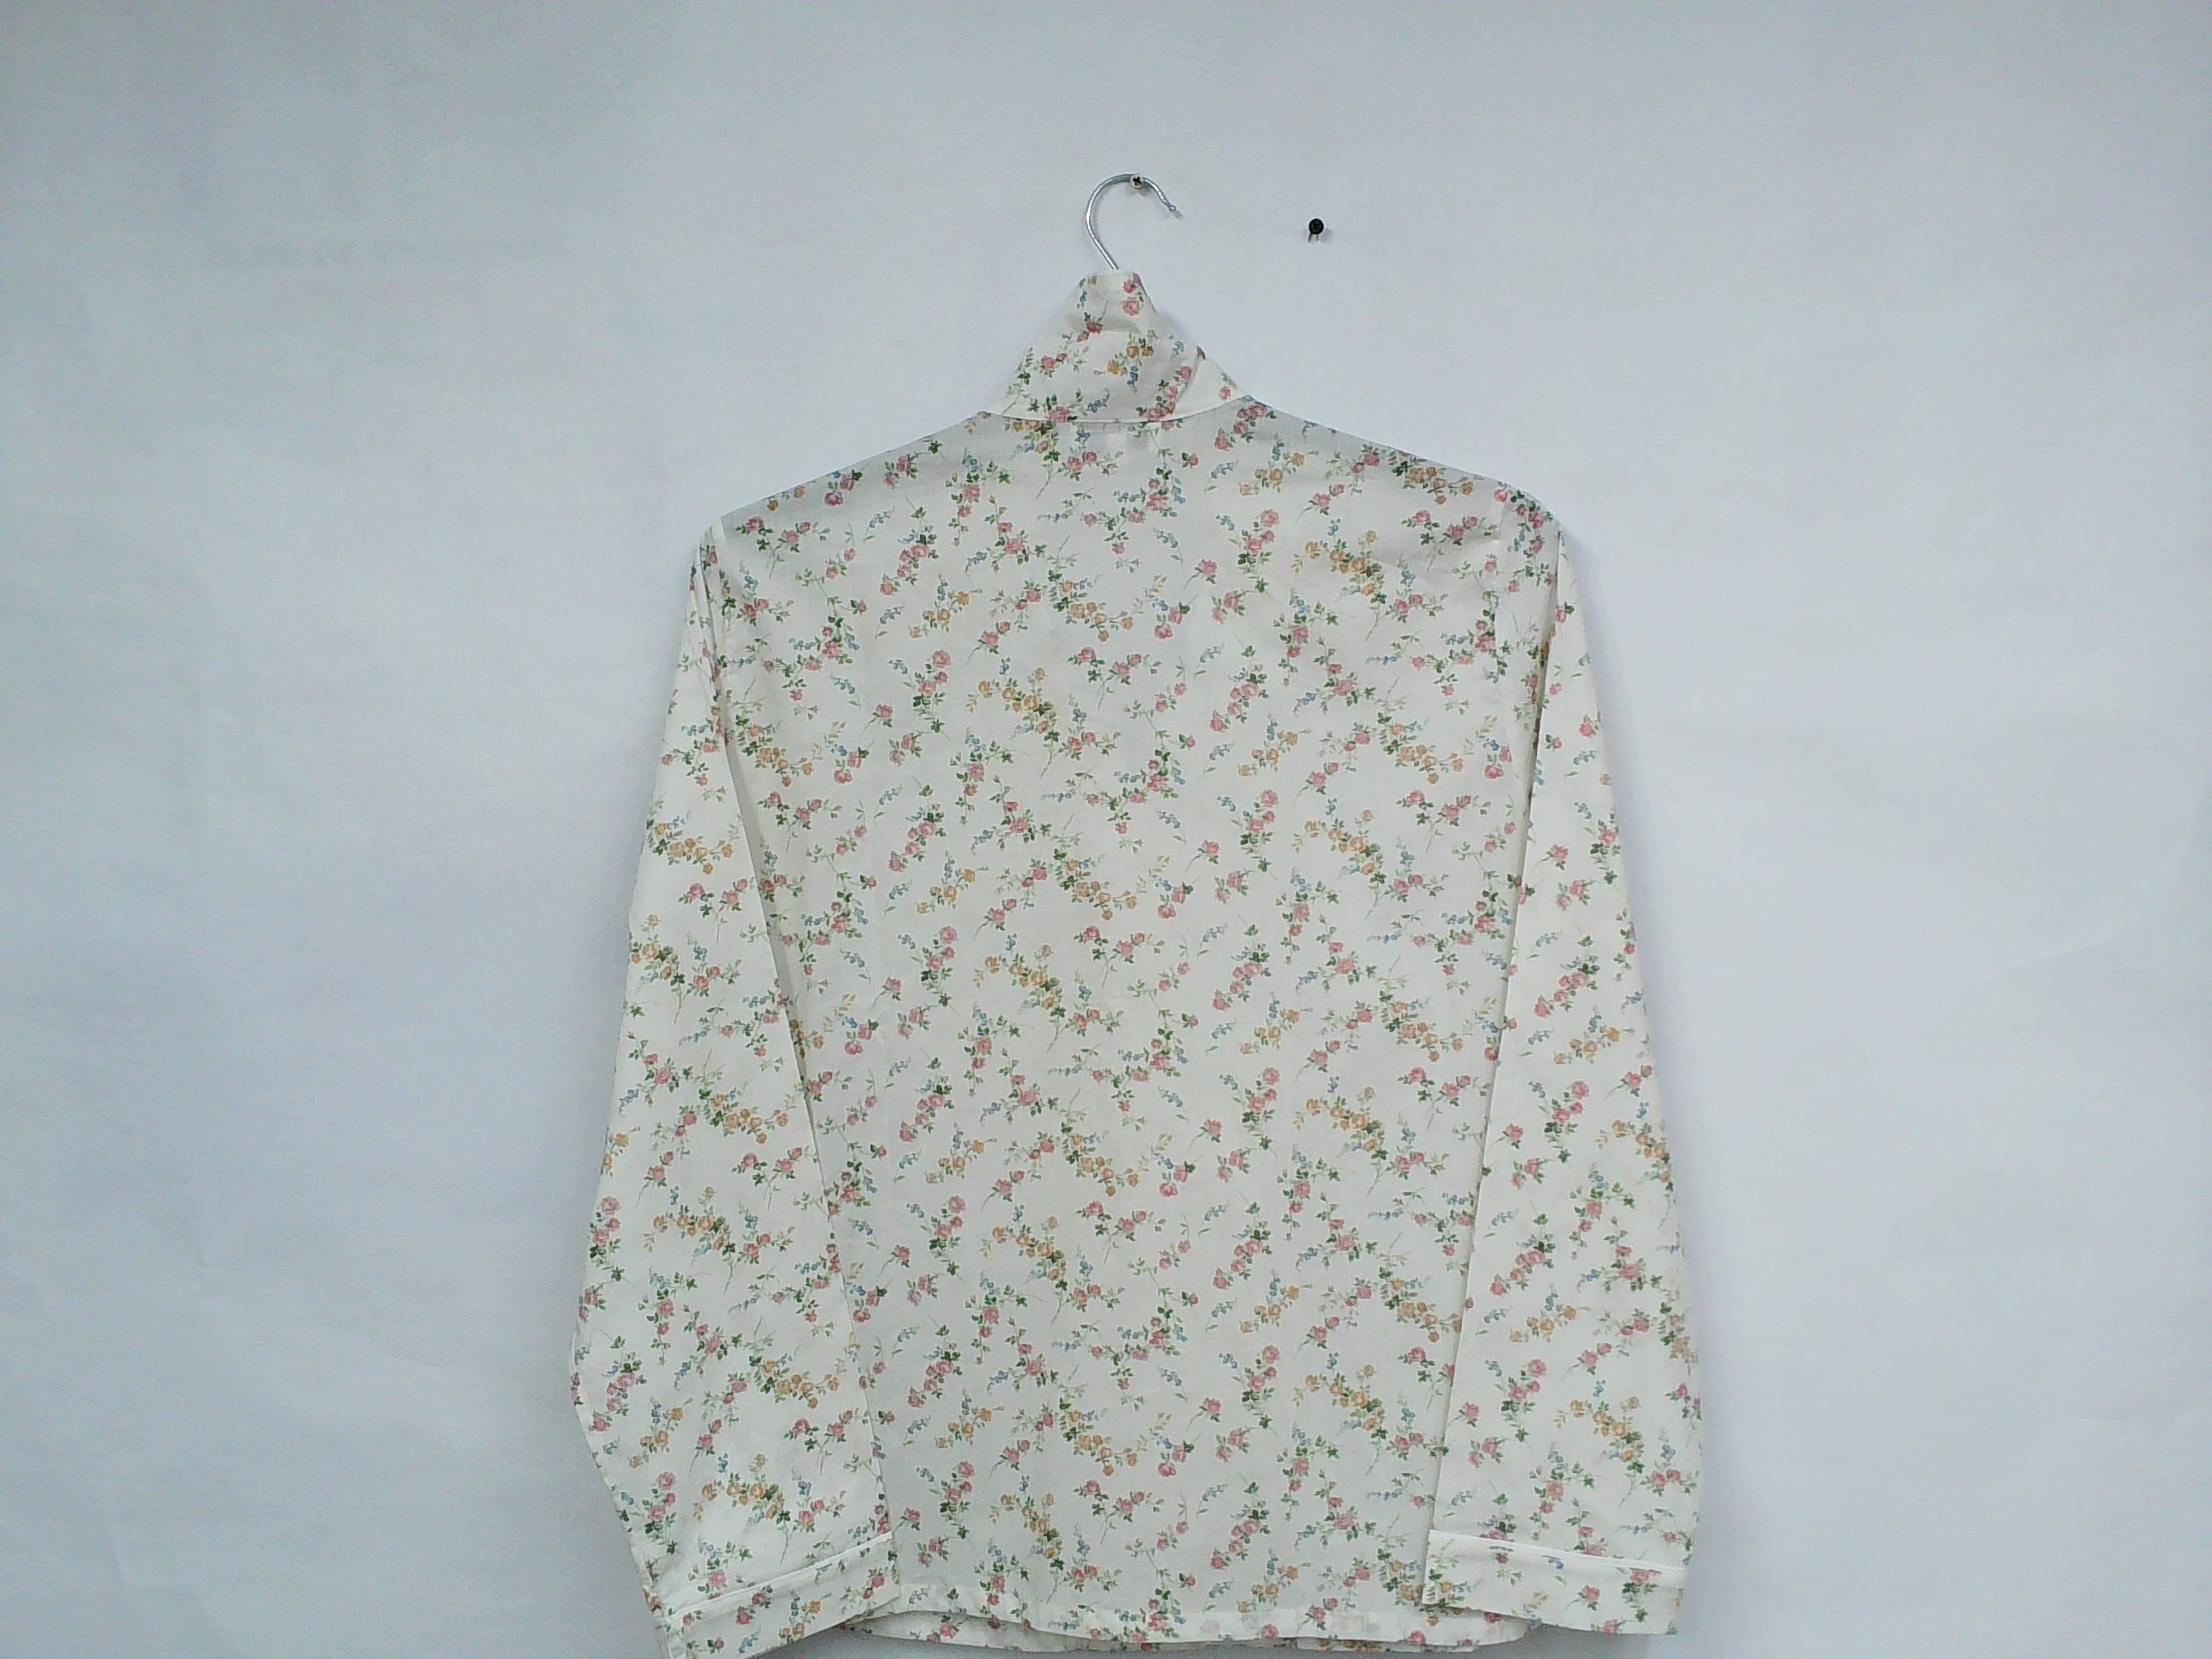seam: (975, 361, 1268, 450)
